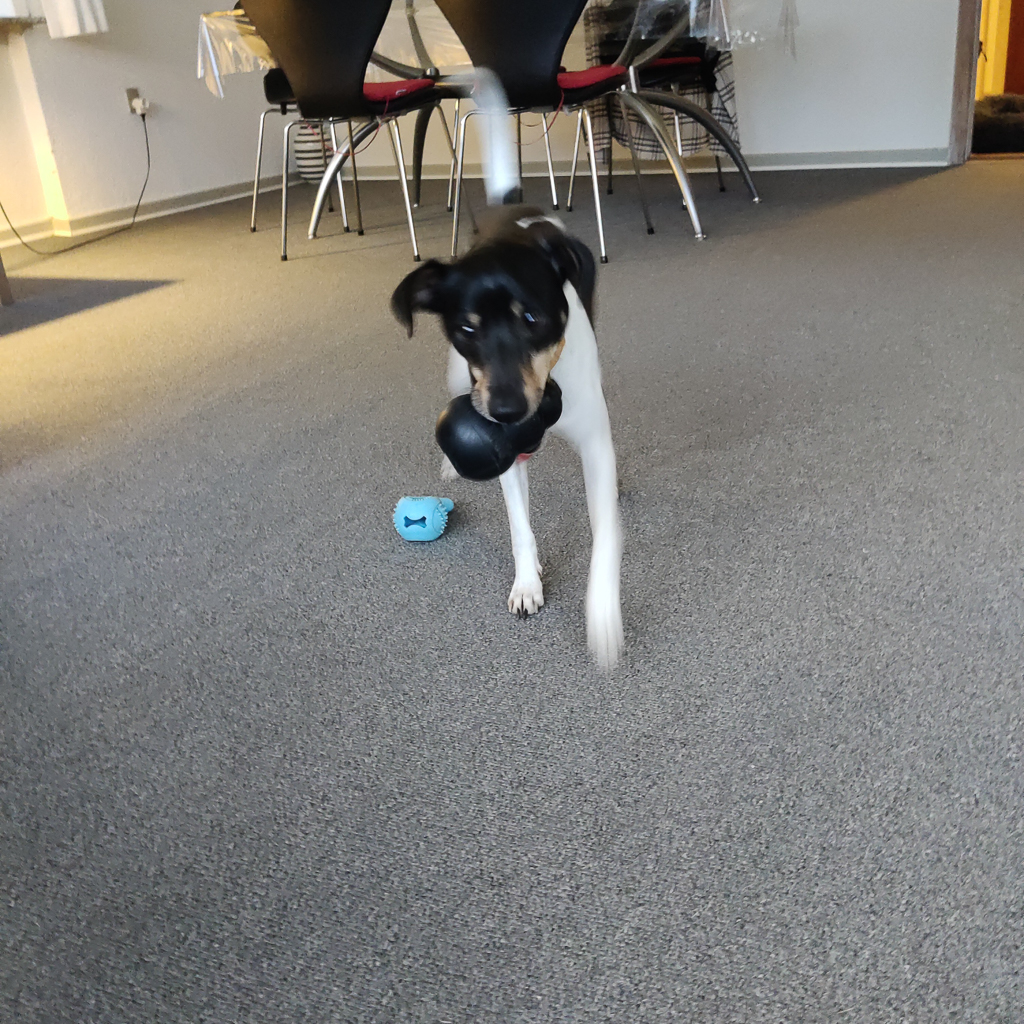Dog: (330, 61, 673, 698)
